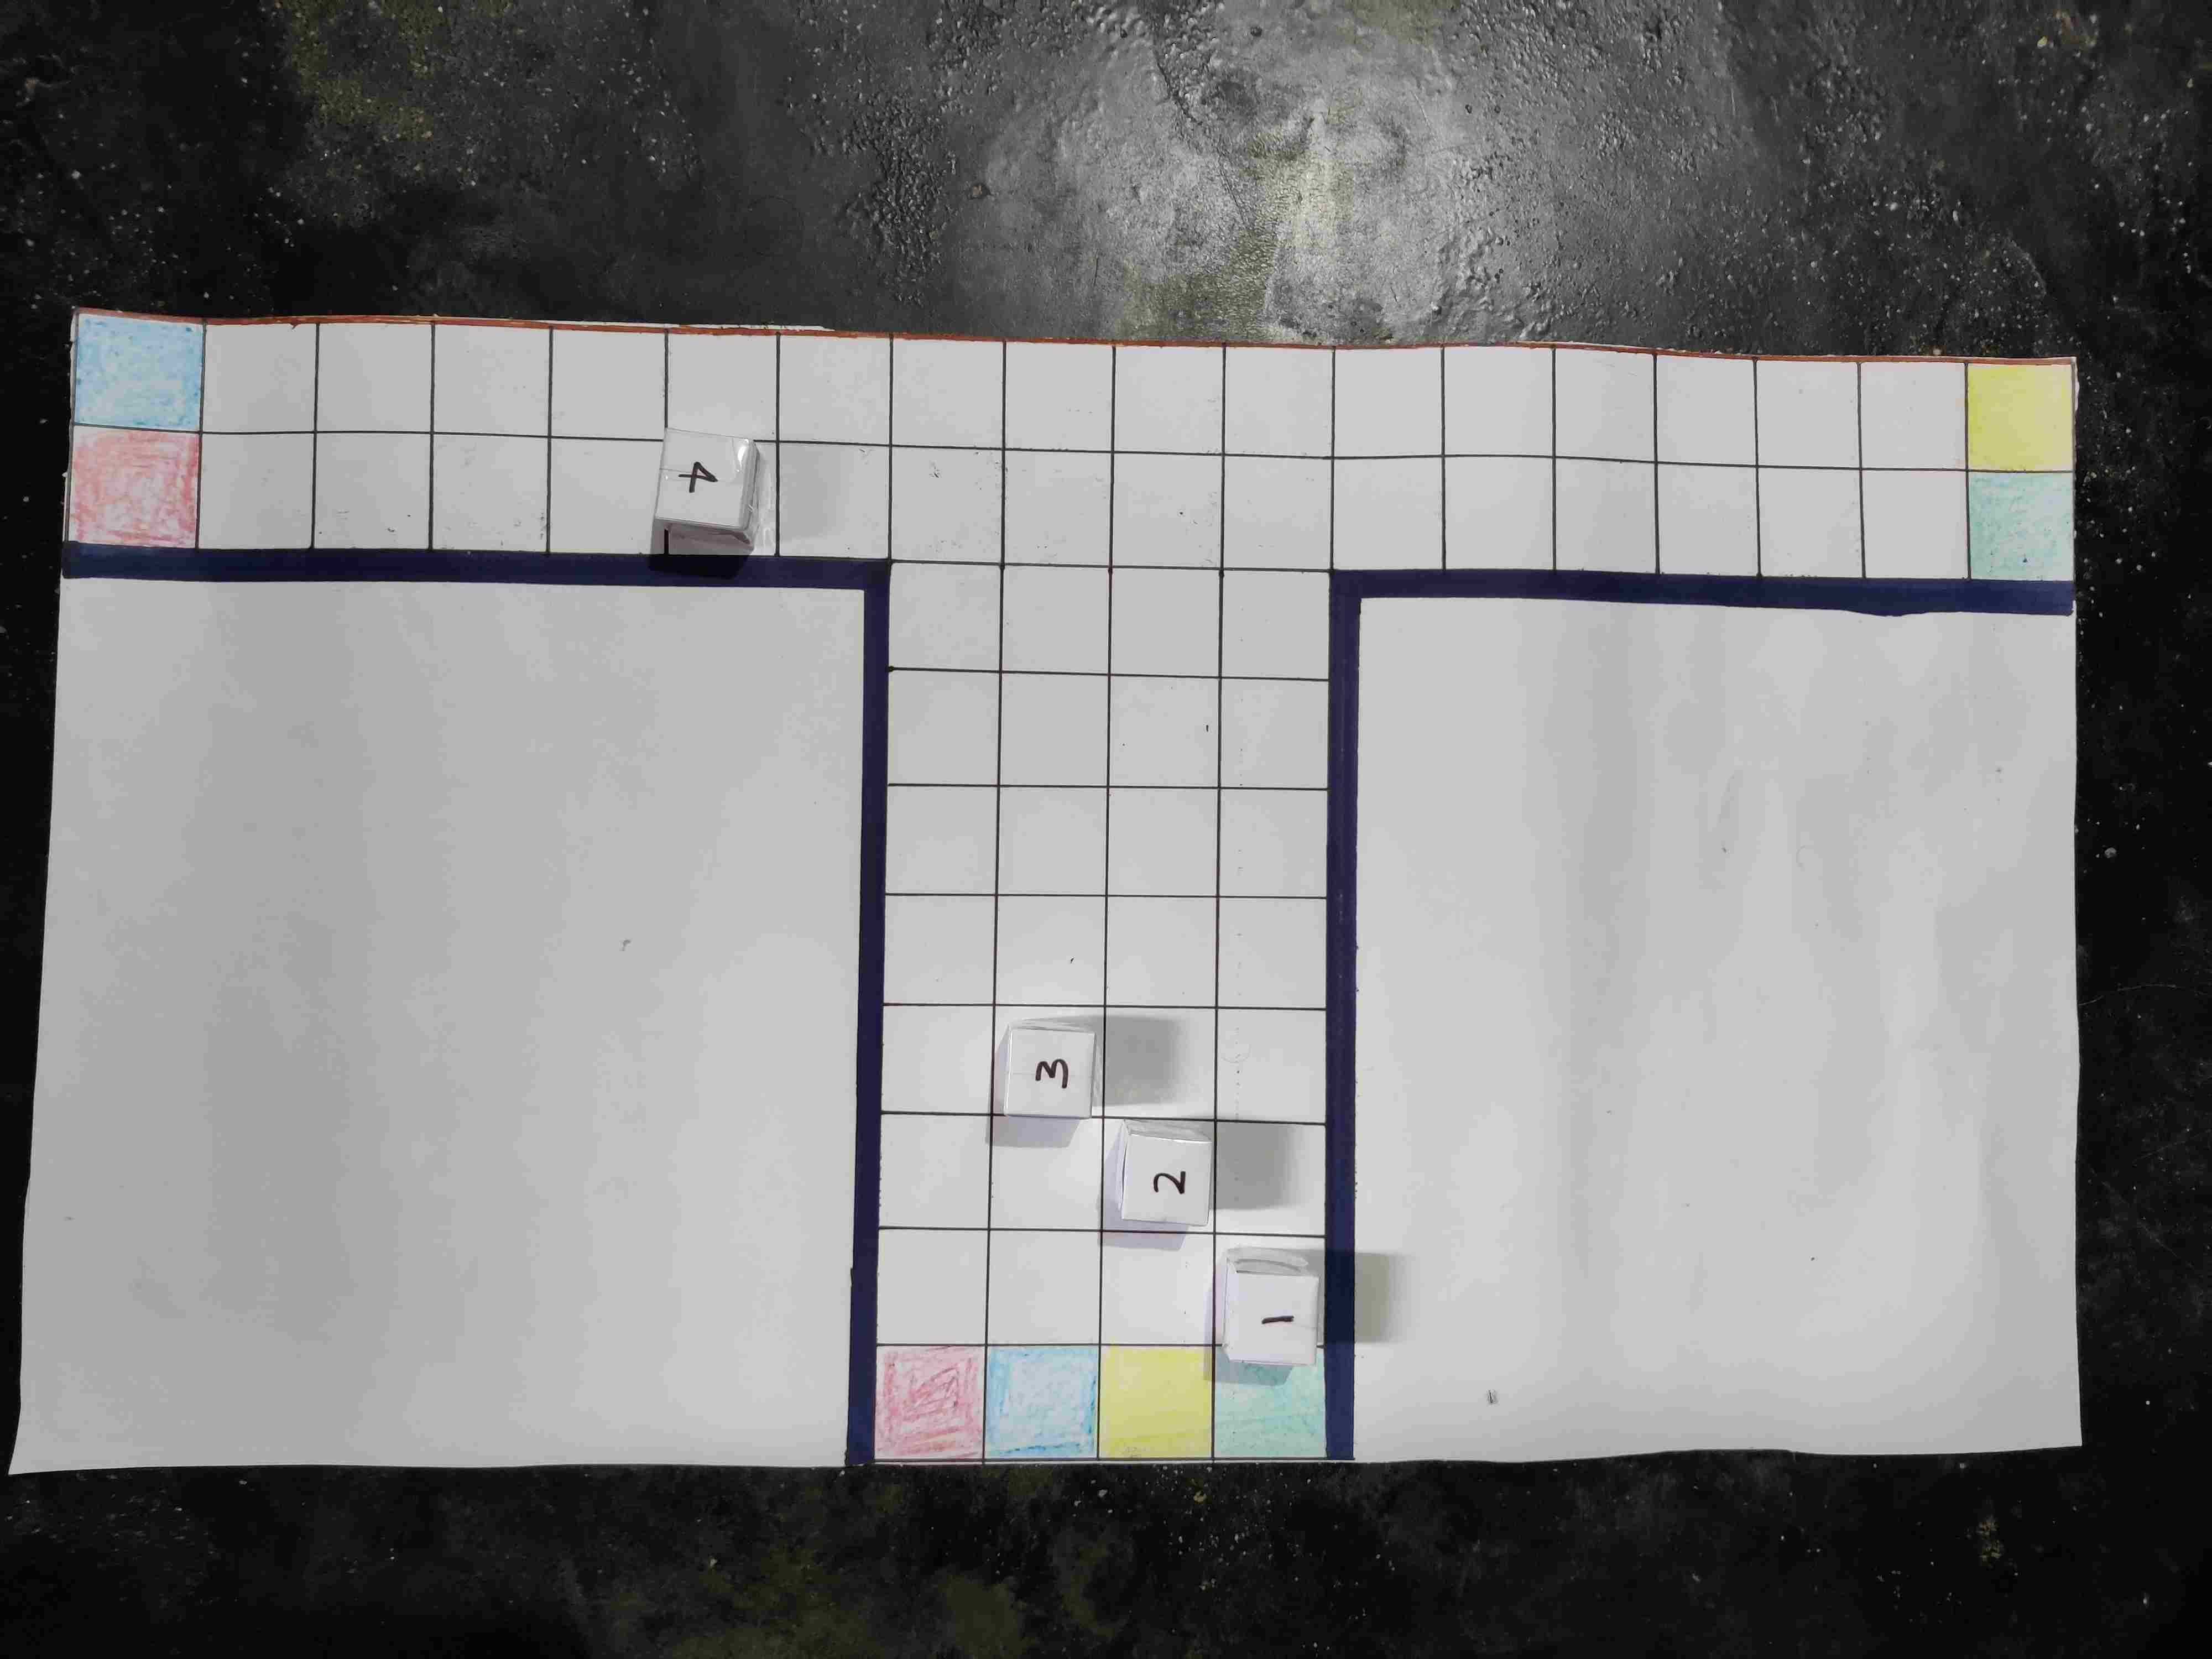arena: (221, 214, 2113, 1232)
bot: (550, 1166, 634, 1244), (1176, 444, 1263, 519), (874, 1063, 949, 1147), (1932, 1037, 2013, 1112)
